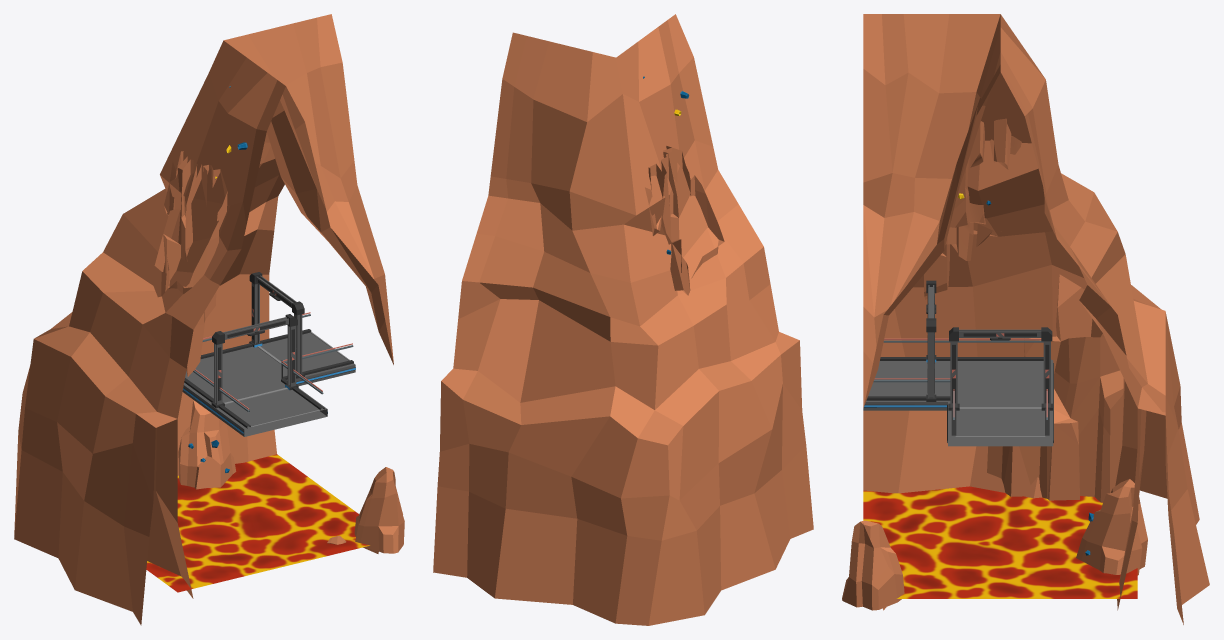
Rendered from Cavern_Corner_Tunnel.fbx.
3 views of the same model, side by side, from view 1: azimuth 30°, elevation 25°; view 2: azimuth 150°, elevation 25°; view 3: azimuth 270°, elevation 25° (orthographic). The views are drawn at different scales.
Visible parts, largest first — view 1: Cavern_Corner_Tunnel, Cavern_Corner_Tunnel_S, Cavern_Corner_Tunnel_Walkway, Cavern_Corner_Tunnel_E, Cavern_Corner_Tunnel_N, Cavern_Corner_Tunnel_W; view 2: Cavern_Corner_Tunnel, Cavern_Corner_Tunnel_W, Cavern_Corner_Tunnel_S; view 3: Cavern_Corner_Tunnel, Cavern_Corner_Tunnel_N, Cavern_Corner_Tunnel_Walkway, Cavern_Corner_Tunnel_S, Cavern_Corner_Tunnel_W, Cavern_Corner_Tunnel_E.
Boxes of the visible parts, box(x1,y1,x2,y2) form: Cavern_Corner_Tunnel: box(14, 274, 404, 625); Cavern_Corner_Tunnel_S: box(69, 40, 285, 418); Cavern_Corner_Tunnel_Walkway: box(182, 272, 355, 436); Cavern_Corner_Tunnel_E: box(224, 14, 393, 363); Cavern_Corner_Tunnel_N: box(267, 86, 393, 364); Cavern_Corner_Tunnel_W: box(220, 132, 284, 285); Cavern_Corner_Tunnel: box(433, 332, 813, 625); Cavern_Corner_Tunnel_W: box(453, 32, 658, 409); Cavern_Corner_Tunnel_S: box(616, 14, 778, 409); Cavern_Corner_Tunnel: box(842, 265, 1209, 624); Cavern_Corner_Tunnel_N: box(863, 14, 1000, 407); Cavern_Corner_Tunnel_Walkway: box(863, 280, 1053, 446); Cavern_Corner_Tunnel_S: box(913, 72, 1083, 299); Cavern_Corner_Tunnel_W: box(1000, 14, 1147, 407); Cavern_Corner_Tunnel_E: box(864, 14, 1000, 406).
Size of the model in its own units: 1676 by 2897 by 1743.
